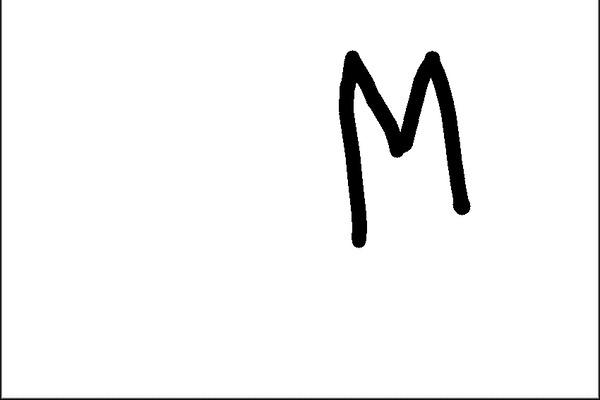M: (328, 40, 472, 247)
